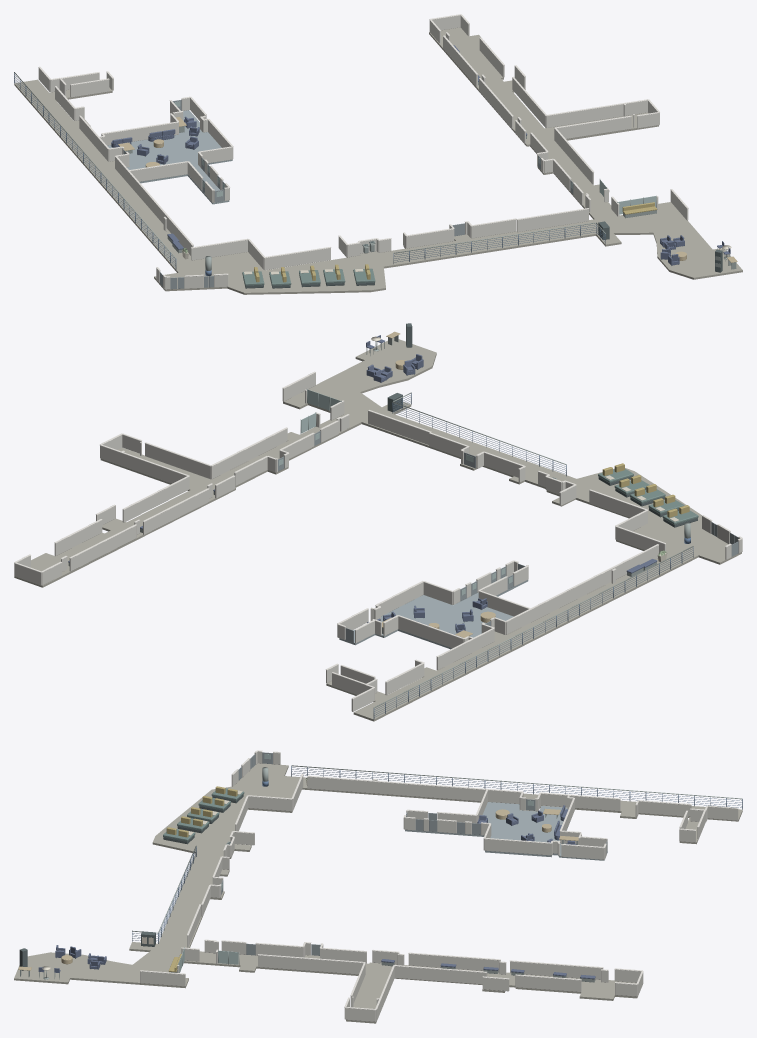
The model's file is floor-2.glb.
The picture shows the model from 3 angles, top to bottom: view 1: azimuth 30°, elevation 25°; view 2: azimuth 150°, elevation 25°; view 3: azimuth 270°, elevation 25°; orthographic projection. The views are drawn at different scales.
Visible parts, largest first — view 1: Floor 2 · continuous-tile-floor, Floor 2 · lounge-carpet, Floor 2 · wall-53-0, Floor 2 · wall-21-0, Floor 2 · wall-33-0, Floor 2 · wall-63-0, Floor 2 · wall-22-0, Floor 2 · wall-26-0, Floor 2 · wall-61-0, Floor 2 · wall-20-0, Floor 2 · wall-2-0, Floor 2 · balcony-depth-gap-repair-0 (+2 smaller); view 2: Floor 2 · continuous-tile-floor, Floor 2 · lounge-carpet, Floor 2 · wall-21-0, Floor 2 · wall-53-0, Floor 2 · wall-36-0, Floor 2 · wall-23-0, Floor 2 · wall-37-0, Floor 2 · wall-63-0, Floor 2 · wall-55-0, Floor 2 · wall-61-0, Floor 2 · wall-33-0, Floor 2 · wall-65-0 (+2 smaller); view 3: Floor 2 · continuous-tile-floor, Floor 2 · wall-21-0, Floor 2 · lounge-carpet, Floor 2 · wall-36-0, Floor 2 · wall-37-0, Floor 2 · wall-55-0, Floor 2 · wall-23-0, Floor 2 · wall-65-0, Floor 2 · retained-lounge-wall-13-0, Floor 2 · wall-70-0, Floor 2 · lower-balcony-rail · handrail, Floor 2 · wall-27-0 (+5 smaller).
Part boxes in pixels (left/top/right/bottom): Floor 2 · continuous-tile-floor: left=14, top=27, right=742, bottom=294; Floor 2 · lounge-carpet: left=107, top=110, right=232, bottom=204; Floor 2 · wall-53-0: left=546, top=100, right=647, bottom=127; Floor 2 · wall-21-0: left=115, top=157, right=193, bottom=255; Floor 2 · wall-33-0: left=517, top=209, right=588, bottom=232; Floor 2 · wall-63-0: left=557, top=117, right=631, bottom=138; Floor 2 · wall-22-0: left=264, top=248, right=330, bottom=270; Floor 2 · wall-26-0: left=191, top=240, right=247, bottom=260; Floor 2 · wall-61-0: left=104, top=122, right=178, bottom=145; Floor 2 · wall-20-0: left=130, top=162, right=187, bottom=181; Floor 2 · wall-2-0: left=406, top=229, right=453, bottom=248; Floor 2 · balcony-depth-gap-repair-0: left=471, top=219, right=516, bottom=238; Floor 2 · continuous-tile-floor: left=14, top=337, right=741, bottom=721; Floor 2 · lounge-carpet: left=339, top=580, right=528, bottom=649; Floor 2 · wall-21-0: left=506, top=545, right=658, bottom=634; Floor 2 · wall-53-0: left=100, top=445, right=186, bottom=483; Floor 2 · wall-36-0: left=211, top=428, right=287, bottom=479; Floor 2 · wall-23-0: left=69, top=525, right=136, bottom=571; Floor 2 · wall-37-0: left=122, top=477, right=189, bottom=522; Floor 2 · wall-63-0: left=145, top=443, right=211, bottom=479; Floor 2 · wall-55-0: left=143, top=489, right=209, bottom=534; Floor 2 · wall-61-0: left=398, top=616, right=464, bottom=648; Floor 2 · wall-33-0: left=368, top=411, right=429, bottom=444; Floor 2 · wall-65-0: left=436, top=629, right=494, bottom=669; Floor 2 · continuous-tile-floor: left=14, top=763, right=742, bottom=1023; Floor 2 · wall-21-0: left=307, top=776, right=521, bottom=804; Floor 2 · lounge-carpet: left=405, top=802, right=607, bottom=860; Floor 2 · wall-36-0: left=258, top=955, right=363, bottom=974; Floor 2 · wall-37-0: left=394, top=966, right=487, bottom=984; Floor 2 · wall-55-0: left=408, top=953, right=500, bottom=971; Floor 2 · wall-23-0: left=510, top=961, right=603, bottom=979; Floor 2 · wall-65-0: left=541, top=793, right=620, bottom=811; Floor 2 · retained-lounge-wall-13-0: left=484, top=839, right=551, bottom=855; Floor 2 · wall-70-0: left=515, top=975, right=581, bottom=992; Floor 2 · lower-balcony-rail · handrail: left=291, top=765, right=742, bottom=799; Floor 2 · wall-27-0: left=638, top=801, right=691, bottom=816.
Size of the model in its own units: 42.94 by 1.67 by 50.98.
